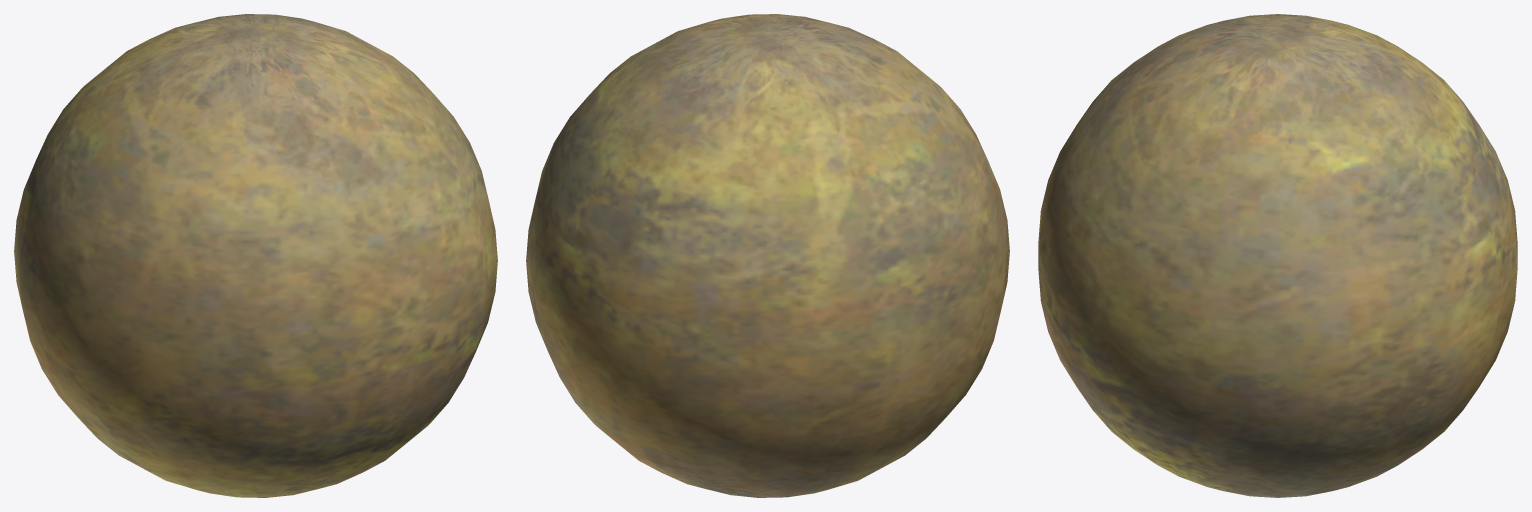
The model's file is ui_planet_sel_default.fbx.
3 views of the same model, side by side, from view 1: azimuth 30°, elevation 25°; view 2: azimuth 150°, elevation 25°; view 3: azimuth 270°, elevation 25° (orthographic).
Parts seen in each view (by area): view 1: mesh_node; view 2: mesh_node; view 3: mesh_node.
Part boxes in pixels (x1=…): mesh_node: x1=14, y1=14, x2=497, y2=497; mesh_node: x1=526, y1=14, x2=1009, y2=497; mesh_node: x1=1038, y1=14, x2=1517, y2=497.
Bounding box in the file's own units: 2 × 2 × 1.98.
